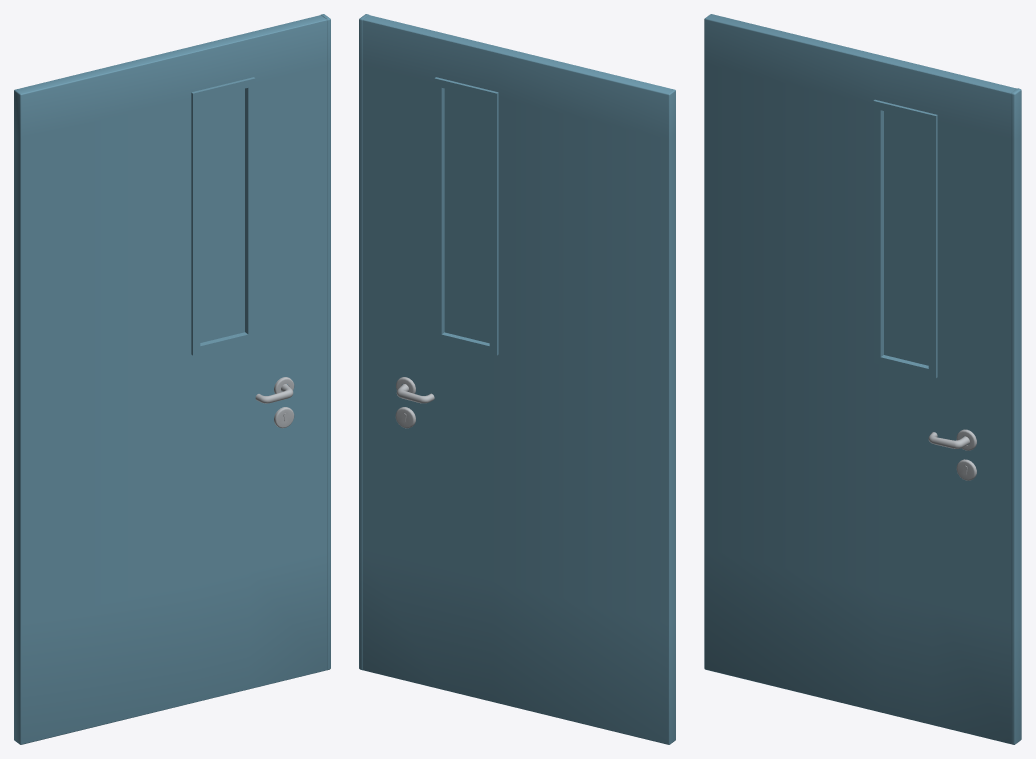
The model's file is hp_door.glb.
3 views of the same model, side by side, from view 1: azimuth 30°, elevation 25°; view 2: azimuth 150°, elevation 25°; view 3: azimuth 330°, elevation 25° (orthographic).
Parts seen in each view (by area): view 1: Door_1, Handle_front001; view 2: Door_1, Handle_back001; view 3: Door_1, Handle_front001.
Boxes of the visible parts, left/top/right/bottom form: Door_1: left=14, top=14, right=330, bottom=744; Handle_front001: left=255, top=377, right=294, bottom=403; Door_1: left=359, top=14, right=675, bottom=744; Handle_back001: left=396, top=377, right=434, bottom=403; Door_1: left=704, top=14, right=1021, bottom=744; Handle_front001: left=928, top=429, right=976, bottom=450.
Bounding box in the file's own units: 1.5 × 3 × 0.2319.
